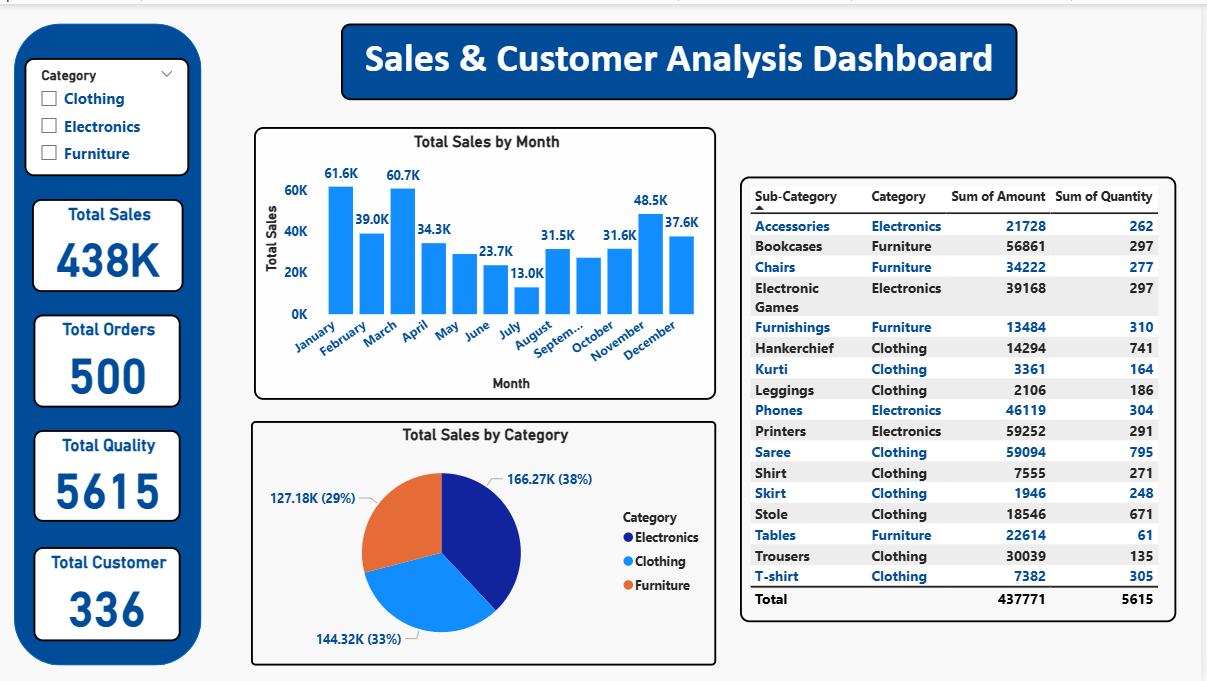

Layout of this report page (visuals, bound fields, positions):
{"tool":"powerbi","page":{"name":"Sales & Order Overview Dashboard","canvas":[1280,720],"ordinal":0},"visuals":[{"type":"shape","box":[22.3,20.7,198.8,680.8],"z":0},{"type":"clusteredColumnChart","fields":{"Y":["Details_Table.Total Sales"],"Category":["Orders_Table.Order Date.Variation.Date Hierarchy.Month"]},"box":[276.8,130.4,489.9,289.5],"z":1000},{"type":"pieChart","fields":{"Category":["Details_Table.Category"],"Y":["Details_Table.Total Sales"]},"box":[273.6,442.2,493.1,259.3],"z":2000},{"type":"tableEx","fields":{"Values":["Details_Table.Sub-Category","Details_Table.Category","Sum(Details_Table.Amount)","Sum(Details_Table.Quantity)"]},"box":[792.1,182.9,462.9,472.4],"z":3000},{"type":"slicer","fields":{"Values":["Details_Table.Category"]},"box":[33.4,57.3,175,125.7],"z":4000},{"type":"card","title":"Total Orders","fields":{"Values":["Orders_Table.Total Orders"]},"box":[42.9,329.3,155.9,98.6],"z":5000},{"type":"card","title":"Total Sales","fields":{"Values":["Details_Table.Total Sales"]},"box":[41.4,206.8,160.7,98.6],"z":6000},{"type":"card","title":"Total Quality","fields":{"Values":["Details_Table.Total Quantity"]},"box":[42.9,451.7,155.9,97],"z":7000},{"type":"card","title":"Total Customer","fields":{"Values":["Orders_Table.Total Customers"]},"box":[42.9,575.8,155.9,100.2],"z":8000}]}

Visuals, with their boxes in screenshot pixels (x1, y1, x2, y2), scaled from the page's 1280x720 canvas onto the 1207x681 screenshot:
shape: {"left": 21, "top": 20, "right": 208, "bottom": 664}
clusteredColumnChart - Details_Table.Total Sales x Orders_Table.Order Date.Variation.Date Hierarchy.Month: {"left": 261, "top": 123, "right": 723, "bottom": 397}
pieChart - Details_Table.Category x Details_Table.Total Sales: {"left": 258, "top": 418, "right": 723, "bottom": 664}
tableEx - Details_Table.Sub-Category x Details_Table.Category: {"left": 747, "top": 173, "right": 1183, "bottom": 620}
slicer - Details_Table.Category: {"left": 31, "top": 54, "right": 197, "bottom": 173}
"Total Orders" card: {"left": 40, "top": 311, "right": 187, "bottom": 405}
"Total Sales" card: {"left": 39, "top": 196, "right": 191, "bottom": 289}
"Total Quality" card: {"left": 40, "top": 427, "right": 187, "bottom": 519}
"Total Customer" card: {"left": 40, "top": 545, "right": 187, "bottom": 639}
